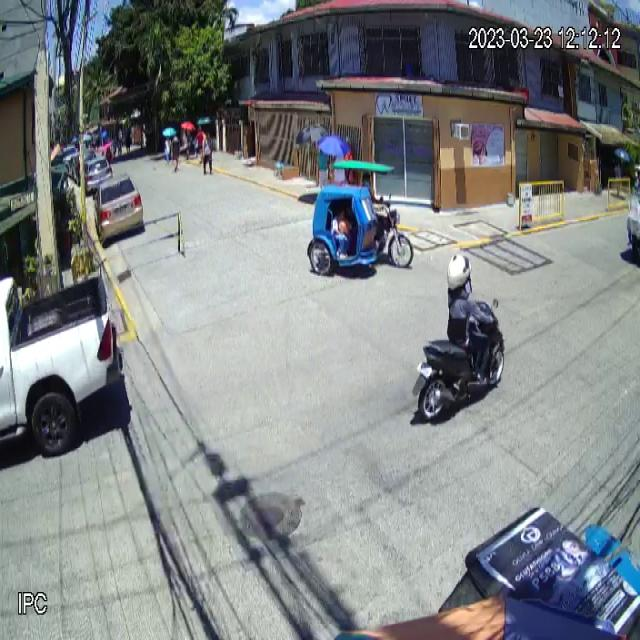Motorcycle: (411, 298, 505, 420)
Tricycle: (306, 160, 414, 276)
